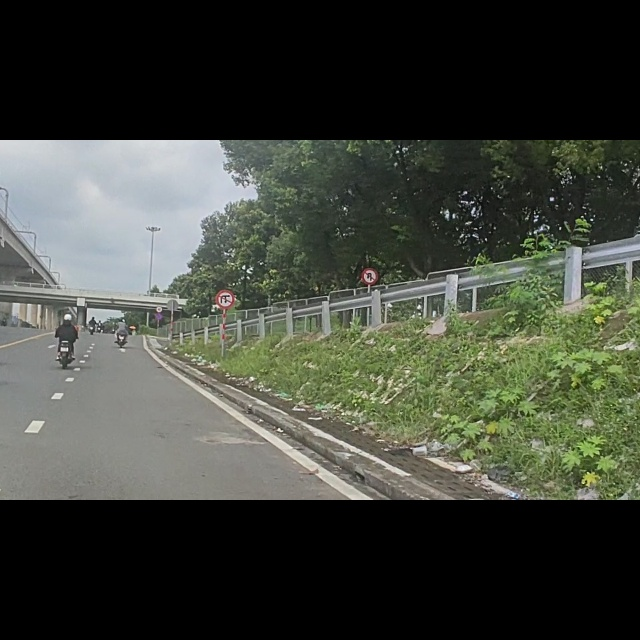bien_cam: (216, 265, 235, 301), (362, 228, 379, 257), (155, 294, 163, 306), (155, 308, 162, 319)
